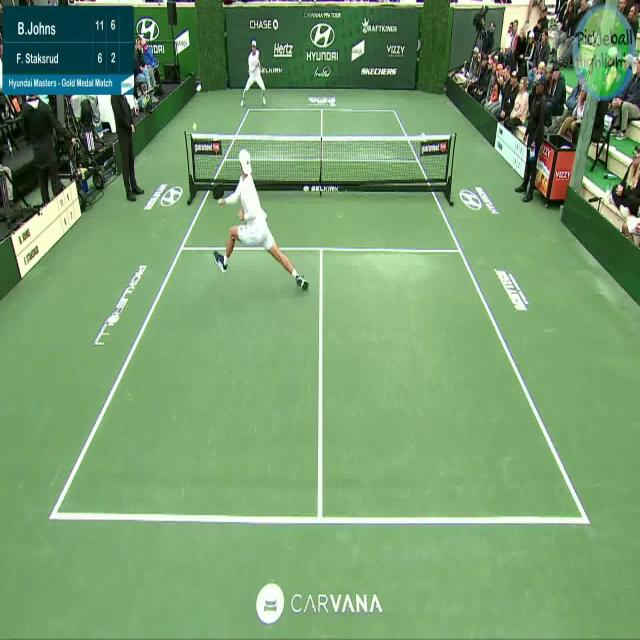ball: (192, 121, 197, 130)
